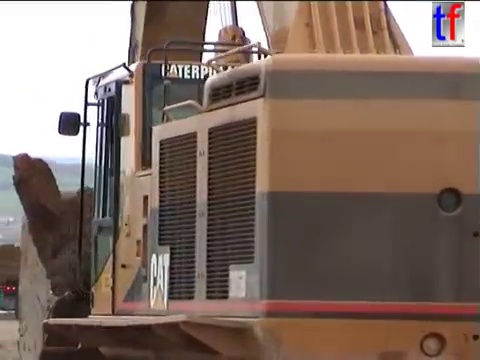excavator: (13, 1, 480, 360)
truck: (1, 240, 39, 323)
